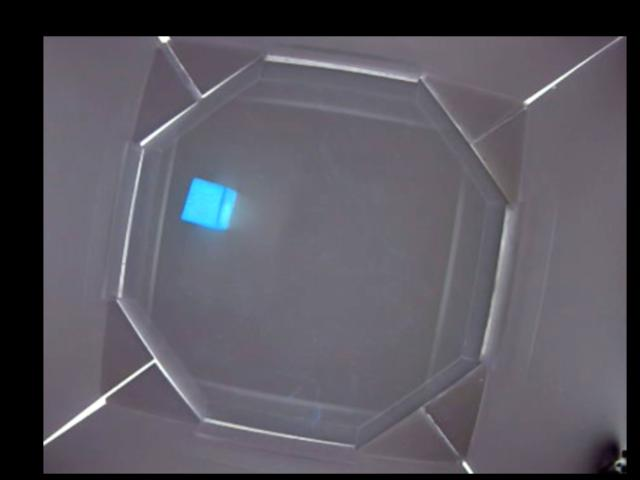Carrot: (181, 177, 234, 230)
